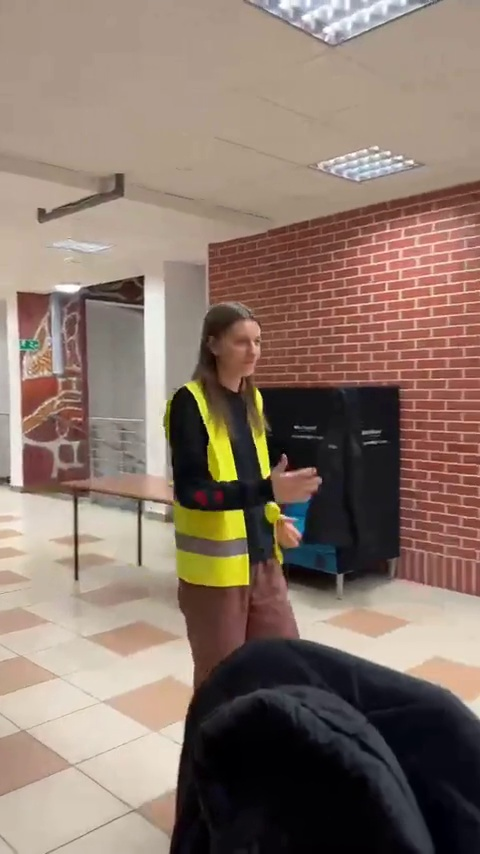vest: (163, 304, 307, 633)
